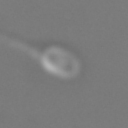normal: (2, 28, 40, 61)
